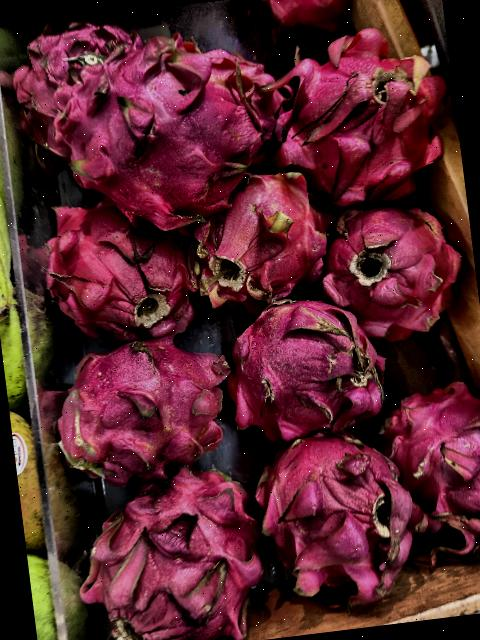buah-naga-matang: (55, 35, 291, 234), (45, 312, 251, 490), (75, 460, 276, 640), (260, 27, 458, 205), (238, 420, 420, 611), (216, 296, 393, 439), (36, 189, 206, 337), (300, 192, 472, 336), (372, 380, 480, 566), (188, 169, 333, 303), (4, 16, 156, 135)
